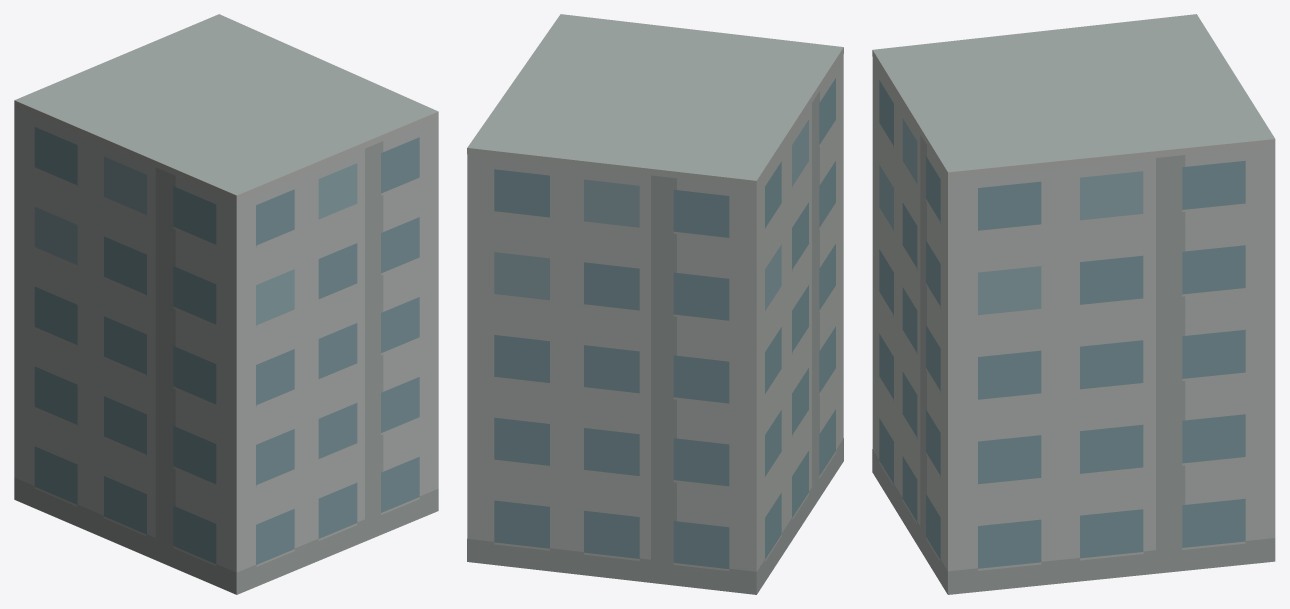
Rendered from survey-upis-32981734.glb.
3 views of the same model, side by side, from view 1: azimuth 30°, elevation 25°; view 2: azimuth 150°, elevation 25°; view 3: azimuth 270°, elevation 25° (orthographic). The views are drawn at different scales.
Visible parts, largest first — view 1: survey-upis-32981734.tmp; view 2: survey-upis-32981734.tmp; view 3: survey-upis-32981734.tmp.
Boxes of the visible parts, x1,y1,x2,y2 form: survey-upis-32981734.tmp: (14, 14, 438, 594); survey-upis-32981734.tmp: (467, 14, 843, 594); survey-upis-32981734.tmp: (872, 14, 1275, 594).
Bounding box in the file's own units: 12.23 × 15.2 × 13.15.
